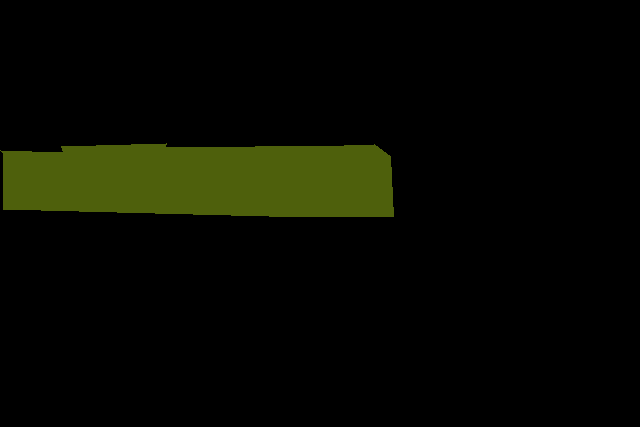Train: (0, 143, 393, 217)
